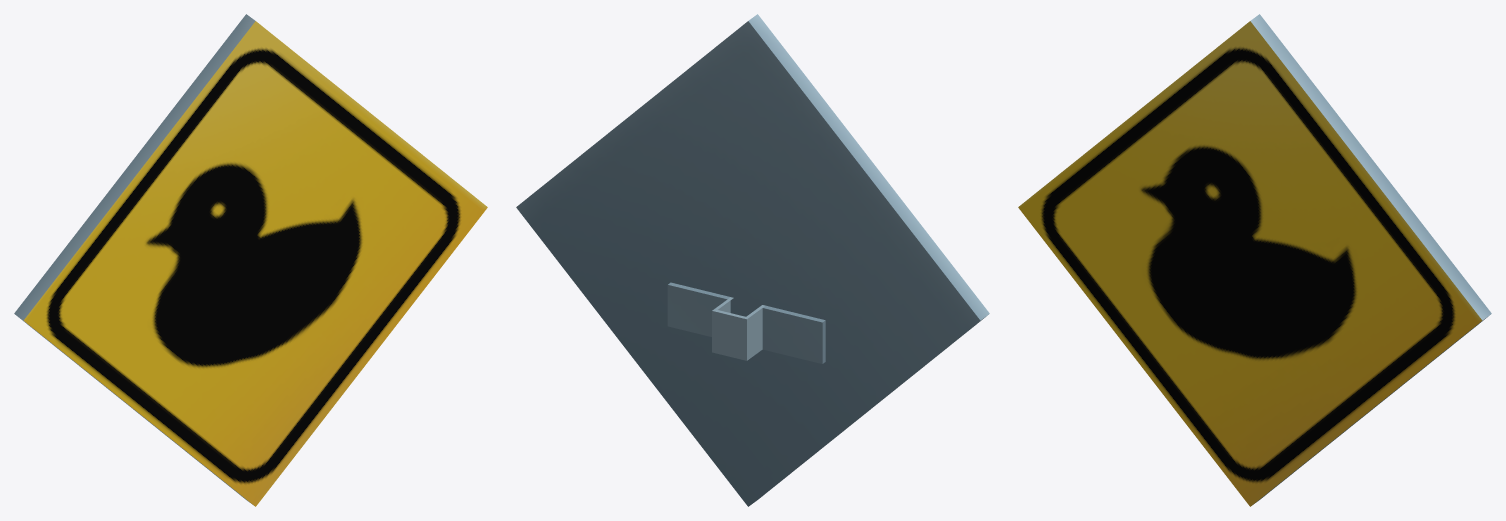
Rendered from Sign7.fbx.
3 views of the same model, side by side, from view 1: azimuth 30°, elevation 25°; view 2: azimuth 150°, elevation 25°; view 3: azimuth 330°, elevation 25° (orthographic).
Parts seen in each view (by area): view 1: Sign7; view 2: Sign7; view 3: Sign7.
Boxes of the visible parts, x1=… form: Sign7: x1=14, y1=14, x2=487, y2=506; Sign7: x1=516, y1=14, x2=989, y2=506; Sign7: x1=1018, y1=14, x2=1491, y2=506.
Bounding box in the file's own units: 1.41 × 0.1489 × 1.41.
